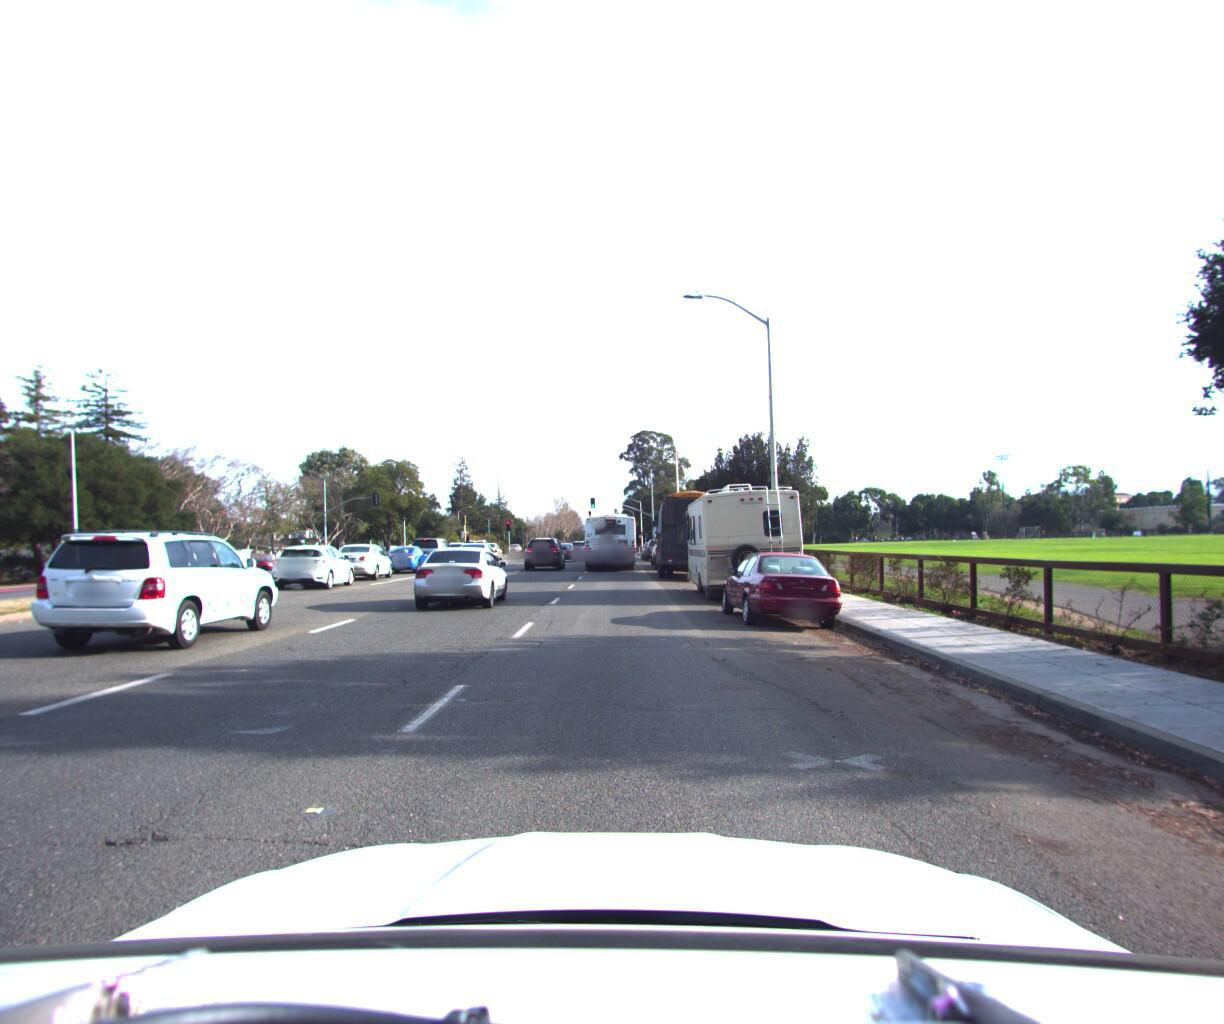bus: (651, 485, 740, 578), (582, 501, 642, 567)
car: (26, 532, 292, 664), (717, 544, 850, 640), (406, 538, 514, 608), (264, 538, 363, 592), (332, 538, 400, 581), (406, 531, 460, 566), (380, 539, 437, 571), (523, 531, 564, 566), (642, 531, 669, 555), (555, 540, 582, 559), (574, 538, 597, 554)
other_vehicle: (683, 472, 809, 605)
